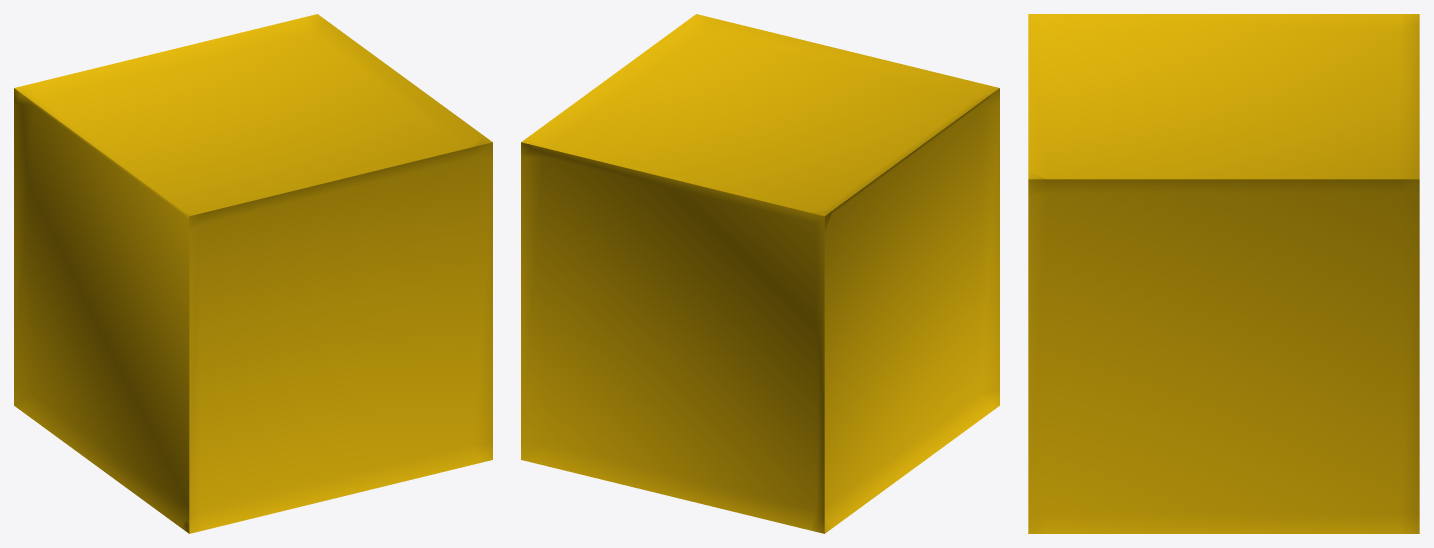
The model's file is BoxOrange.fbx.
3 views of the same model, side by side, from view 1: azimuth 30°, elevation 25°; view 2: azimuth 150°, elevation 25°; view 3: azimuth 270°, elevation 25° (orthographic). The views are drawn at different scales.
Visible parts, largest first — view 1: pCube1; view 2: pCube1; view 3: pCube1.
Part boxes in pixels (x1=…): pCube1: x1=14, y1=14, x2=492, y2=533; pCube1: x1=521, y1=14, x2=999, y2=533; pCube1: x1=1028, y1=14, x2=1419, y2=533.
Bounding box in the file's own units: 1.27 × 1.27 × 1.27.
